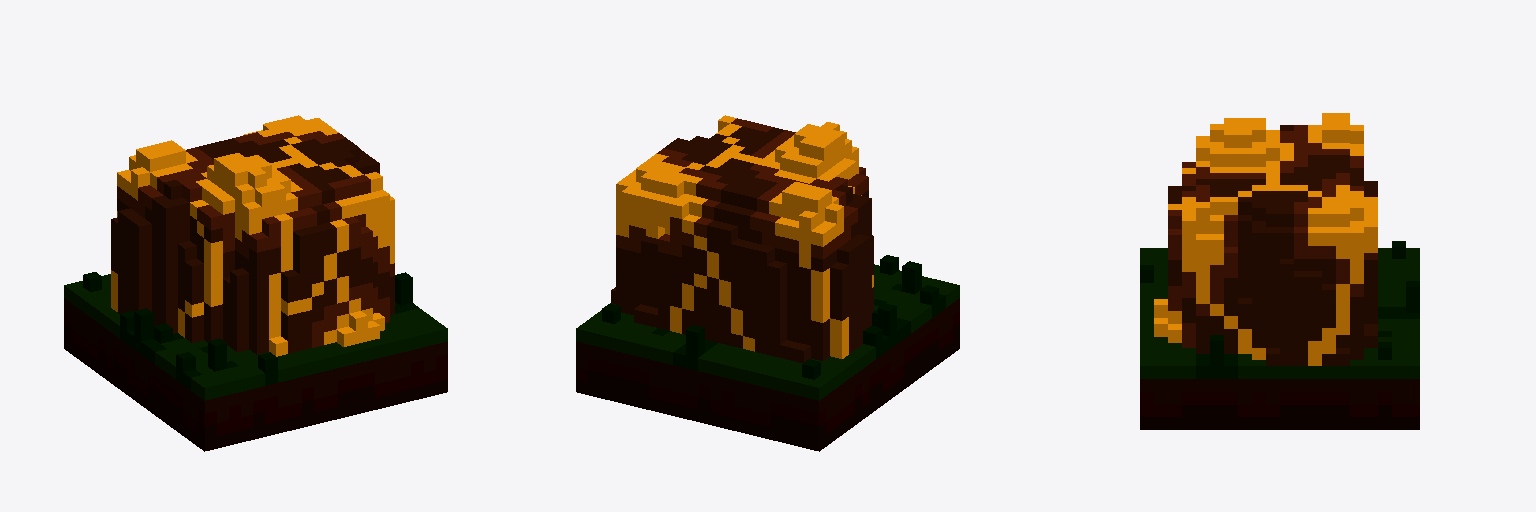
The model's file is gold.obj.
3 renders of one model, left to right at view 1: azimuth 30°, elevation 25°; view 2: azimuth 150°, elevation 25°; view 3: azimuth 270°, elevation 25°, orthographic.
Parts seen in each view (by area): view 1: gold; view 2: gold; view 3: gold.
Part boxes in pixels (left/top/right/bottom): gold: left=64, top=115, right=447, bottom=451; gold: left=576, top=115, right=959, bottom=451; gold: left=1140, top=113, right=1419, bottom=429.
Size of the model in its own units: 1 by 0.9 by 1.